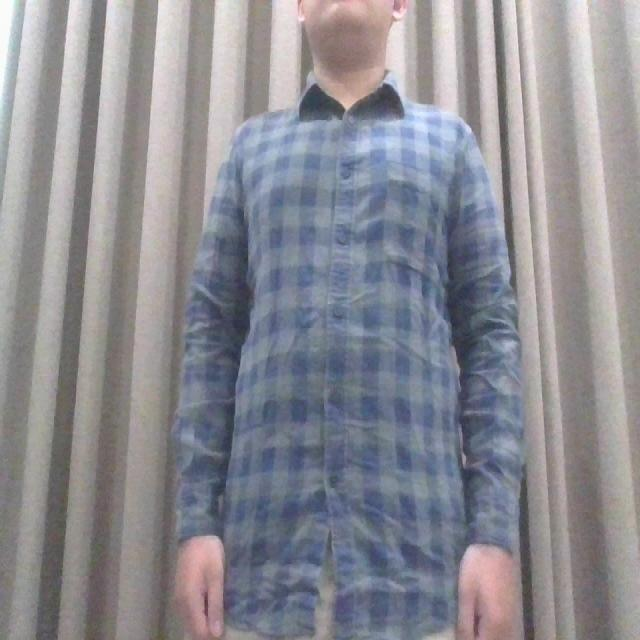long_Sleeve_shirt: (172, 67, 525, 640)
